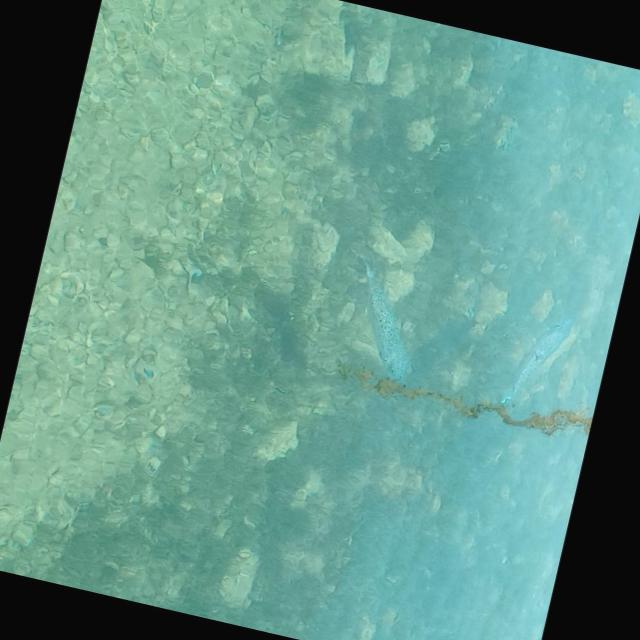Balon Baligi: (322, 245, 438, 388), (510, 308, 574, 401)
